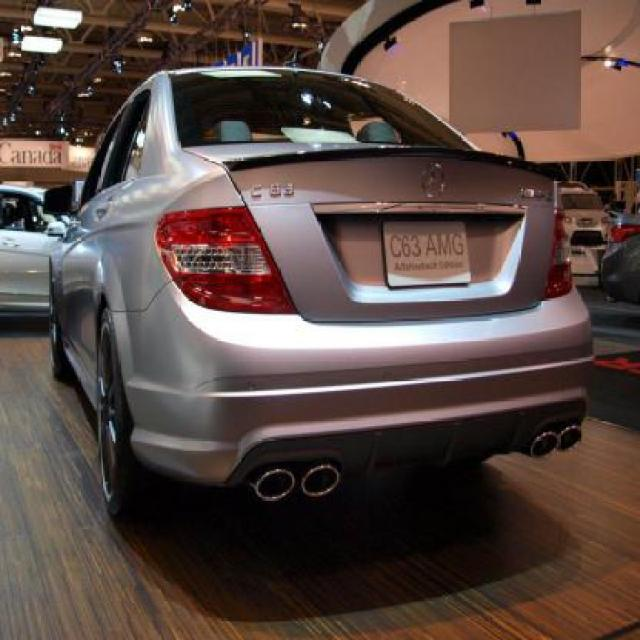Licenseplate: (378, 212, 473, 290)
